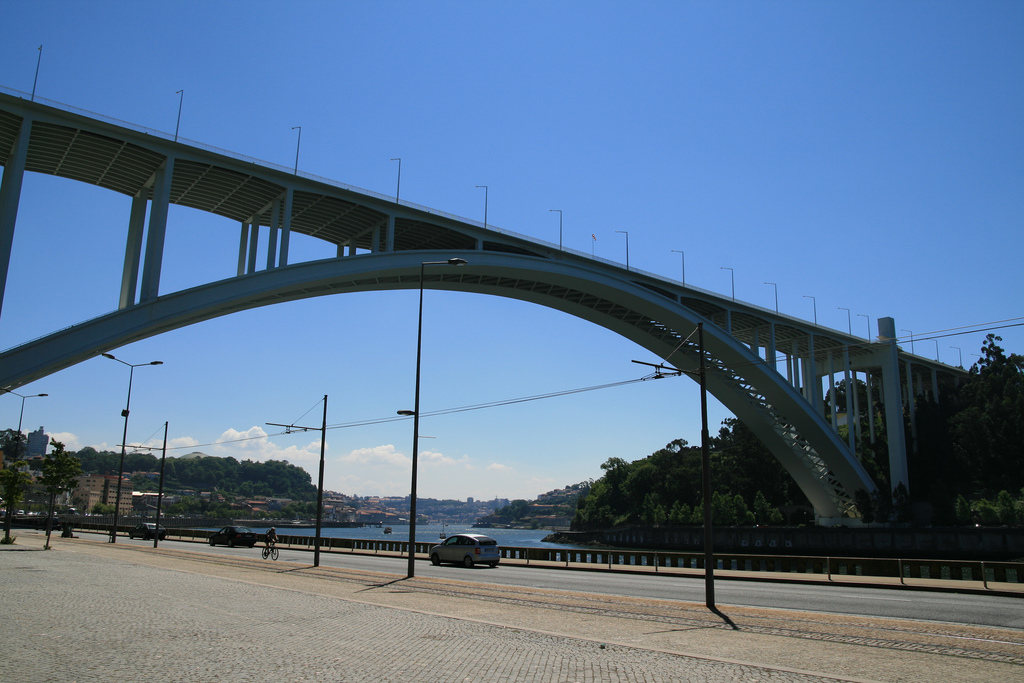arrabida: (0, 92, 989, 533)
